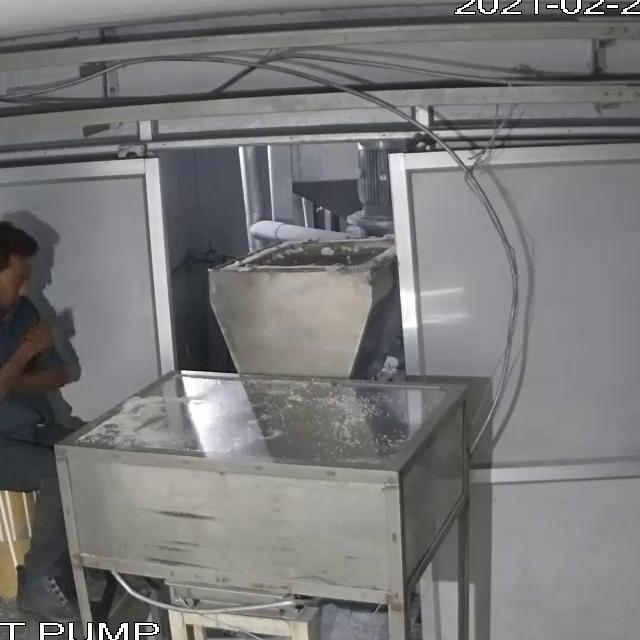NO-Hardhat: (0, 225, 38, 266)
NO-Mask: (0, 288, 20, 311)
NO-Safety Vest: (0, 302, 62, 431)
Person: (0, 224, 91, 617)
